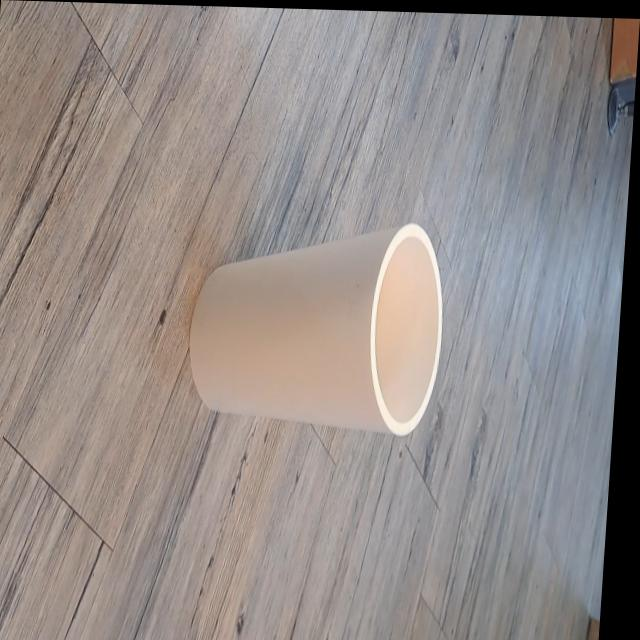CORAL: (145, 163, 466, 514)
